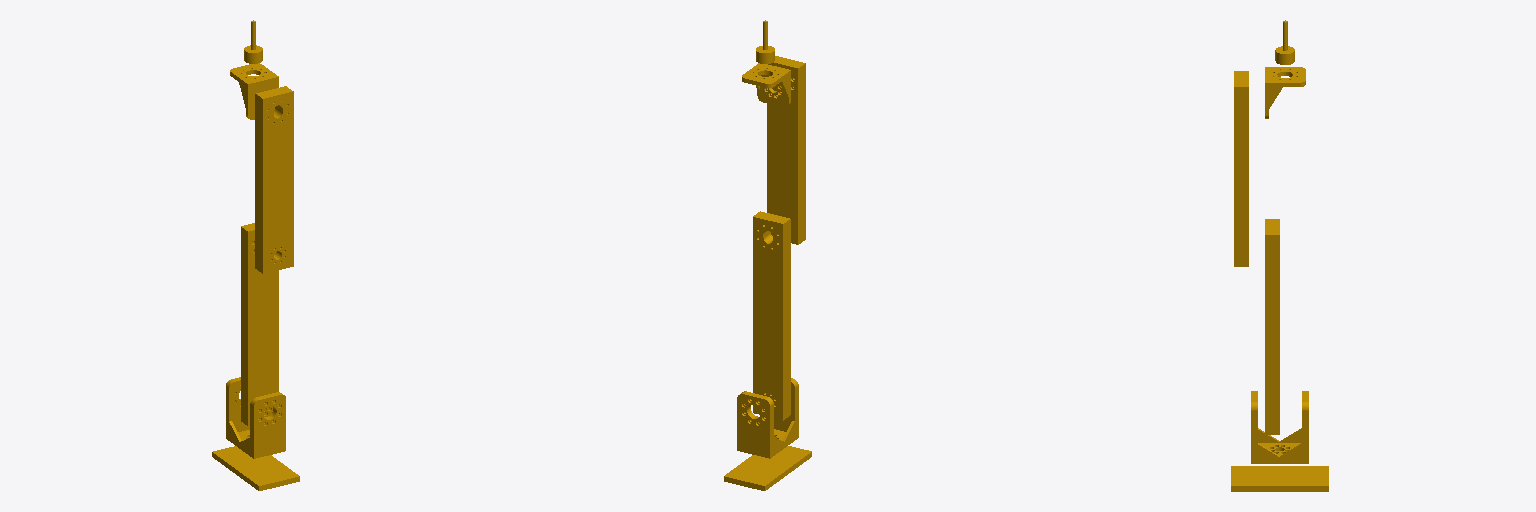
The robot description file, URDF, robot "134":
<?xml version="1.0"?>

<robot name="134">

  <!-- ******************************************************** -->
  <!-- ******************* Kinematic Chain ******************** -->
  <!-- ******************************************************** -->
  <!-- Note the 'origin' tag in the joints defines the shift and
       reorientation, i.e. the transform.  For moving joints, this
       happens before the continuous joint rotates around 'axis'. -->

  <!-- World can't take a visual element (at least in Gazebo). -->
  <link name="world"/>

  <!-- Shift 0 -->
  <joint name="placement" type="fixed">
    <parent link="world"/>
    <child  link="baseplate"/>
    <origin xyz="0.046 0.682 0.00615" rpy="0 0 1.5708"/>			<!-- WHERE IS THE BASE -->
  </joint>

  <!-- BASE PLATE: Shift across the base plate to the base motor. --> 
  <link name="baseplate">
    <visual>
      <origin xyz="0.0 0.0 0.0" rpy="0 0 0"/>
      <geometry>
	<box size="0.2 0.1 0.0123"/>
      </geometry>
      <material name="wood"/>
    </visual>
  </link>

  <!-- Joint 1 -->
  <joint name="baseplate" type="fixed">
    <parent link="baseplate"/>
    <child  link="basemotor"/>
    <origin xyz="0 0 0" rpy="0 0 0"/>
  </joint>

  <!-- BASE MOTOR: Thickness: X5 = 31.1mm, X8 = 45.1mm -->
  <link name="basemotor">
    <visual>
      <origin xyz="0.0 0.0 0.00615" rpy="0 0 1.5708"/>
      <geometry>
        <mesh filename="package://threedof/meshes/X8.stl"
	      scale="0.001 0.001 0.001"/>
      </geometry>
      <material name="hebi"/>
    </visual>
  </link>

  <joint name="base" type="continuous">
    <parent link="basemotor"/>
    <child  link="ubracket"/>
    <origin xyz="0 0 0.06625" rpy="0 0 0"/> 
    <axis   xyz="0 0 1"/>
  </joint>

  <!-- U BRACKET: Shift and rotate across the L bracket. -0.0405 -0.05 0.0501-->
  <link name="ubracket">
    <visual>
      <origin xyz="0 0 0" rpy="-3.1416 0 0"/>
      <geometry>
        <mesh filename="package://chad/meshes/u-bracket-stronger.stl"
	      scale="0.001 0.001 0.001"/>
      </geometry>
      <material name="wood"/>
    </visual>
  </link>

  <joint name="ubracket" type="fixed">
    <parent link="ubracket"/>
    <child  link="shouldermotor"/>
    <origin xyz="0.045 0 0.084" rpy="1.5708 -1.5708 1.5708"/>	  <!-- L BRACKET DIMENIONS 0.05 -0.01 0.1035 WRONG TRANWLRTE HERE-->
  </joint>

  <!-- SHOULDER MOTOR: Thickness: X5 = 31.1mm, X8 = 45.1mm -->
  <link name="shouldermotor">
    <visual>
      <origin xyz="0 0 0" rpy="0 3.1416 3.1416"/>
      <geometry>
        <mesh filename="package://threedof/meshes/X8.stl"
	      scale="0.001 0.001 0.001"/>
      </geometry>
      <material name="hebi"/>
    </visual>
  </link>

  <joint name="shoulder" type="continuous">
    <parent link="shouldermotor"/>
    <child  link="upperarm"/>
    <origin xyz="0 0 -0.0765" rpy="-3.1416 0 0"/> <!-- 0.0 -0.0368 0 -->
    <axis   xyz="0 0 1"/>
  </joint>

  <!-- UPPER ARM: Shift across the upper arm (1/4in thickness) -->
  <link name="upperarm">
    <visual>
      <origin xyz="0 0 0" rpy="1.5708 0 0"/>
      <geometry>
        <mesh filename="package://chad/meshes/arm_box_smoothbrain(1).stl"
	      scale="0.001 0.001 0.001"/>	      
      </geometry>
      <material name="wood"/>
    </visual>
    <!-- Add a visual element -->
  </link>

  <joint name="upperarm" type="fixed">
    <parent link="upperarm"/>
    <child  link="elbowmotor"/>
    <origin xyz="0.382 0 0" rpy="0 0 -1.5708"/>		  <!-- UPPER ARM DIMENIONS -->
  </joint>

  <!-- Elbow motor.  Thickness: X5 = 31.1mm, X8 = 45.1mm -->
  <link name="elbowmotor">
    <visual>
      <geometry>
        <mesh filename="package://threedof/meshes/X5.stl"
	      scale="0.001 0.001 0.001"/>
      </geometry>
      <material name="hebi"/>
    </visual>
  </link>

  <joint name="elbow" type="continuous">
    <parent link="elbowmotor"/>
    <child  link="lowerarm"/>
    <origin xyz="0 0 0" rpy="0 0 1.5708"/>
    <axis   xyz="0 0 1"/>
  </joint>

  <!-- Shift across the upper arm (1/4in thickness) -->
  <link name="lowerarm">
    <visual>
      <origin xyz="0 0 0.03125" rpy="0 0.0 0.0"/>
      <geometry>
        <mesh filename="package://chad/meshes/arm_box_smoothbrain2.stl"
	      scale="1 1 1"/>	
      </geometry>
      <material name="wood"/>
    </visual>
  </link>

  <joint name="lowerarm" type="fixed">
    <parent link="lowerarm"/>
    <child  link="wristmotor1"/>
    <origin xyz="0.336 0.0 0.0314" rpy="3.1416 0 -1.5708"/>		  <!-- UPPER ARM DIMENIONS 0.0420 0.0367-->
  </joint>

  <!-- X5 for the wrist 1 -->
  <link name="wristmotor1">
    <visual>
      <geometry>
        <mesh filename="package://threedof/meshes/X5.stl"
	      scale="0.001 0.001 0.001"/>
      </geometry>
      <material name="hebi"/>
    </visual>
  </link>

  <joint name="wrist1" type="continuous">
    <parent link="wristmotor1"/>
    <child  link="lbracket"/>
    <origin xyz="0 0 0.0311" rpy="-3.1416 0 3.1416"/>
    <axis   xyz="0 0 -1"/>
  </joint>

  <!-- L BRACKET: Shift and rotate across the L bracket. -0.0405 -0.05 0.0501-->
  <link name="lbracket">
    <visual>
      <origin xyz="0 0 0" rpy="0 0 0"/>
      <geometry>
        <mesh filename="package://chad/meshes/l-bracket(2).stl"
	      scale="0.001 0.001 0.001"/>
      </geometry>
      <material name="wood"/>
    </visual>
  </link>

  <joint name="lbracket" type="fixed">
    <parent link="lbracket"/>
    <child  link="wristmotor2"/>
    <origin xyz="0 -0.0481 -0.0425" rpy="1.5708 -1.5708 0"/>	  <!-- L BRACKET DIMENIONS 0.05 -0.01 0.1035 WRONG TRANWLRTE HERE-->
  </joint>  

    <!-- X5 for the wrist 2-->
  <link name="wristmotor2">
    <visual>
      <geometry>
        <mesh filename="package://threedof/meshes/X5.stl"
	      scale="0.001 0.001 0.001"/>
      </geometry>
      <material name="hebi"/>
    </visual>
  </link>

  <joint name="wrist2" type="continuous">
    <parent link="wristmotor2"/>
    <child  link="stick"/>
    <origin xyz="0 0 0.0311" rpy="-1.5708 0 0"/>
    <axis   xyz="0 1 0"/>
  </joint>

  <!-- stick-->
  <link name="stick">
    <visual>
      <origin xyz="0 0 0" rpy="0 0 0"/>
      <geometry>
        <mesh filename="package://chad/meshes/stick.stl"
	      scale="0.001 0.001 0.001"/>
      </geometry>
      <material name="wood"/>
    </visual>
  </link>

  <joint name="gripper" type="fixed">
    <parent link="stick"/>
    <child  link="tip"/>
    <origin xyz="0 -0.04 0" rpy="0 0 0"/> <!-- used to be -0.09-->
    <axis   xyz="0 0 1"/>
  </joint>

  <!-- TIP FRAME -->
  <link name="tip"/>

  
  <!-- *************************************************** -->
  <!-- *************** Visual Link Elements ************** -->
  <!-- *************************************************** -->
  <!-- Note collada .dae files are preferred over .stl as  -->
  <!-- they specify and provide color/texture support.     -->

  <!-- Colors -->
  <material name="wood">  <color rgba="0.82 0.62 0.04 1"/>  </material>
  <material name="hebi">  <color rgba="0.82 0.06 0.06 1"/>  </material>

</robot>

--- Render facts (derived) ---
Views: 3 orthographic renders of the robot side by side, from view 1: azimuth 30°, elevation 25°; view 2: azimuth 150°, elevation 25°; view 3: azimuth 270°, elevation 25°.
Model 134 with 13 links and 12 joints (5 continuous, 7 fixed), rooted at world, posed every joint at zero.
Visible links, largest first — view 1: lowerarm, upperarm, ubracket, baseplate, lbracket; view 2: upperarm, lowerarm, ubracket, baseplate, lbracket; view 3: upperarm, lowerarm, baseplate, ubracket, lbracket.
Link boxes in pixels (<box>): lowerarm: <box>255,86,293,273</box>; upperarm: <box>241,223,278,425</box>; ubracket: <box>226,377,285,458</box>; baseplate: <box>212,446,299,490</box>; lbracket: <box>230,63,278,119</box>; upperarm: <box>753,211,790,420</box>; lowerarm: <box>767,56,805,244</box>; ubracket: <box>737,378,798,458</box>; baseplate: <box>724,446,811,490</box>; lbracket: <box>742,63,790,107</box>; upperarm: <box>1265,219,1279,434</box>; lowerarm: <box>1234,71,1248,266</box>; baseplate: <box>1231,466,1328,491</box>; ubracket: <box>1251,391,1308,463</box>; lbracket: <box>1265,67,1305,118</box>.
Size in the robot's own frame: 0.1 by 0.2 by 1.04 metres.
5 mesh visuals loaded from 7 distinct referenced files (5 binary STL); not drawn: 5 (reference not matched to a file when rendering).
